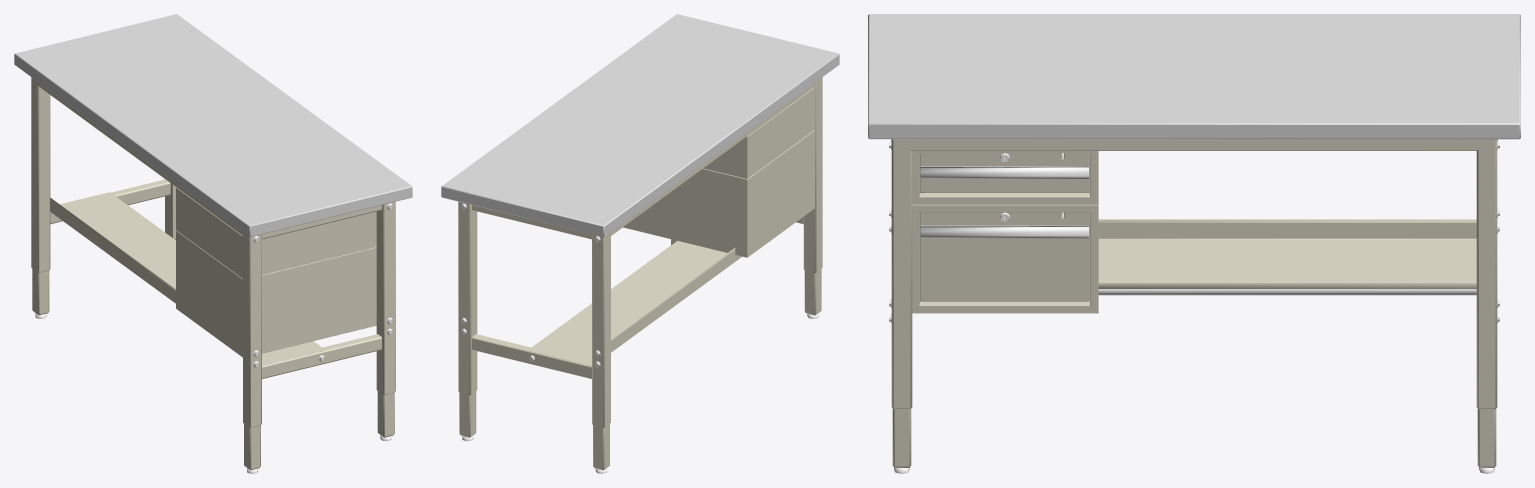
File: globalindustrialtable.fbx
3 renders of one model, left to right at view 1: azimuth 30°, elevation 25°; view 2: azimuth 150°, elevation 25°; view 3: azimuth 270°, elevation 25°, orthographic. The views are drawn at different scales.
Parts seen in each view (by area): view 1: Global Industrial™ 60 x 24 Adj. Height Workbench Square Tube; view 2: Global Industrial™ 60 x 24 Adj. Height Workbench Square Tube; view 3: Global Industrial™ 60 x 24 Adj. Height Workbench Square Tube.
Part boxes in pixels (box(x1,y1,x2,y2)): Global Industrial™ 60 x 24 Adj. Height Workbench Square Tube: box(14, 14, 412, 473); Global Industrial™ 60 x 24 Adj. Height Workbench Square Tube: box(441, 14, 839, 473); Global Industrial™ 60 x 24 Adj. Height Workbench Square Tube: box(868, 14, 1520, 473).
Bounding box in the file's own units: 60.98 × 91.9 × 152.
